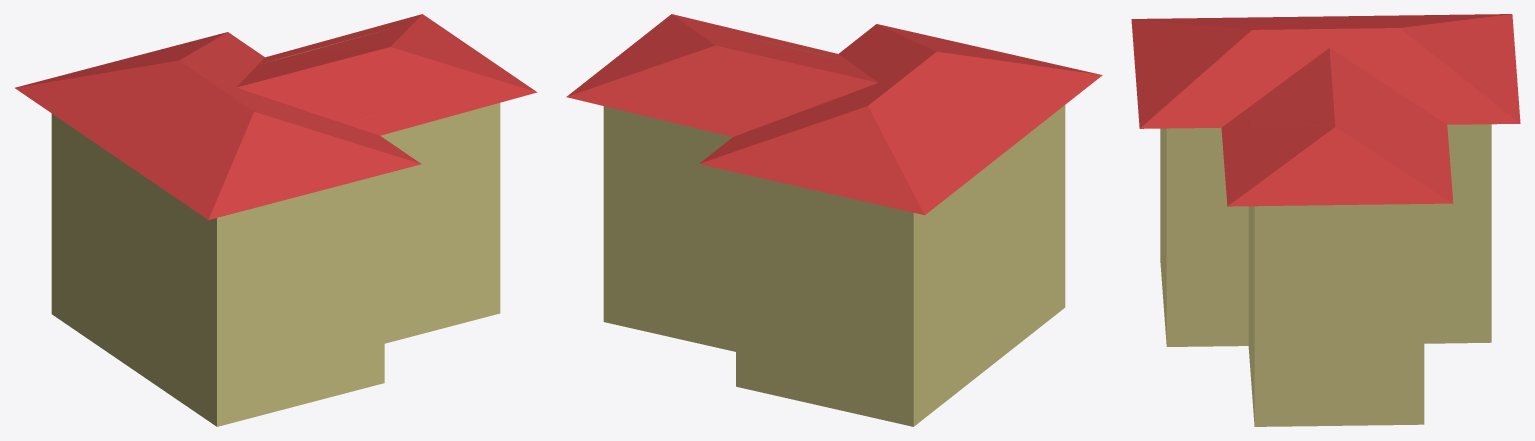
3 renders of one model, left to right at view 1: azimuth 30°, elevation 25°; view 2: azimuth 150°, elevation 25°; view 3: azimuth 270°, elevation 25°, orthographic. The views are drawn at different scales.
Parts seen in each view (by area): view 1: group_5, group_3, group_10, group_7, group_4, group_9; view 2: group_5, group_3, group_10, group_7, group_4, group_9; view 3: group_10, group_5, group_3, group_7, group_4, group_9.
Part boxes in pixels (x1,y1,x2,y2): group_5: [51, 113, 384, 426]; group_3: [15, 32, 421, 219]; group_10: [270, 33, 500, 343]; group_7: [236, 14, 536, 135]; group_4: [15, 32, 420, 219]; group_9: [258, 14, 537, 135]; group_5: [736, 105, 1065, 426]; group_3: [699, 24, 1102, 215]; group_10: [603, 30, 839, 351]; group_7: [566, 14, 878, 136]; group_4: [699, 24, 1100, 214]; group_9: [568, 15, 847, 136]; group_10: [1249, 204, 1424, 426]; group_5: [1160, 124, 1491, 353]; group_3: [1131, 14, 1520, 128]; group_7: [1221, 48, 1453, 206]; group_4: [1132, 14, 1520, 128]; group_9: [1221, 106, 1452, 205].
Size of the model in its own units: 16.46 by 13.9 by 10.73.
